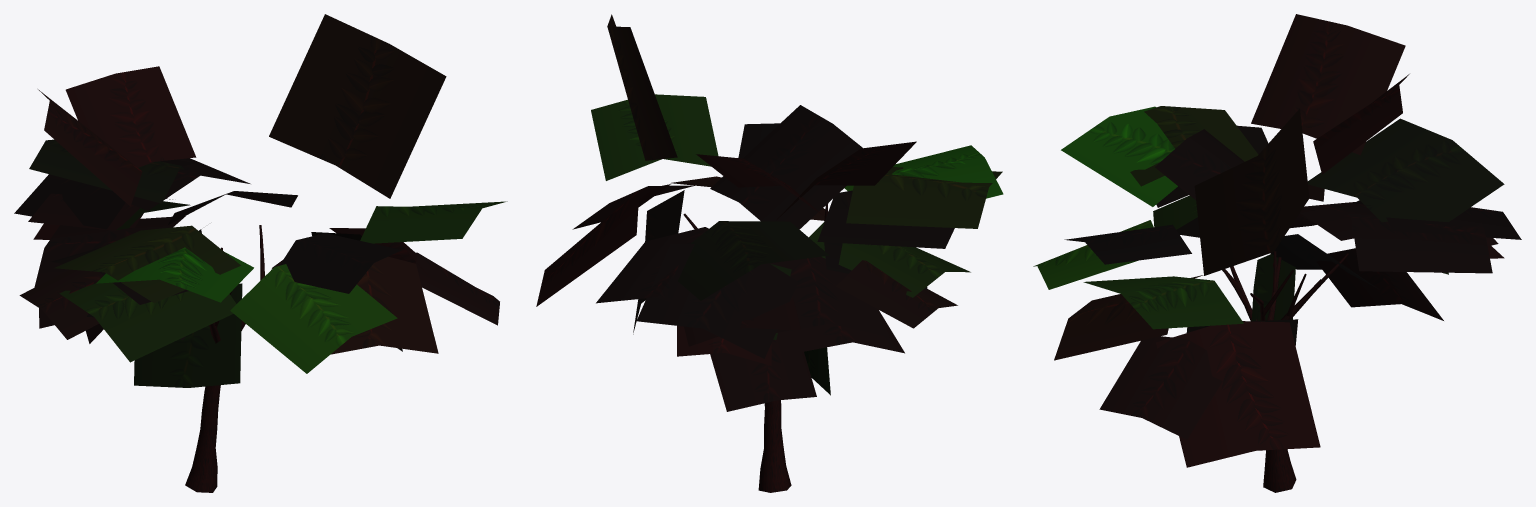
The model's file is veg_neem2_card.glb.
3 renders of one model, left to right at view 1: azimuth 30°, elevation 25°; view 2: azimuth 150°, elevation 25°; view 3: azimuth 270°, elevation 25°, orthographic. The views are drawn at different scales.
Visible parts, largest first — view 1: neem_2; view 2: neem_2; view 3: neem_2.
Part boxes in pixels (left/top/right/bottom): neem_2: left=14, top=14, right=507, bottom=492; neem_2: left=536, top=14, right=1003, bottom=492; neem_2: left=1033, top=14, right=1521, bottom=492.
Bounding box in the file's own units: 11.75 × 11.55 × 11.53.
Materials: 2 (2 with a texture image).
